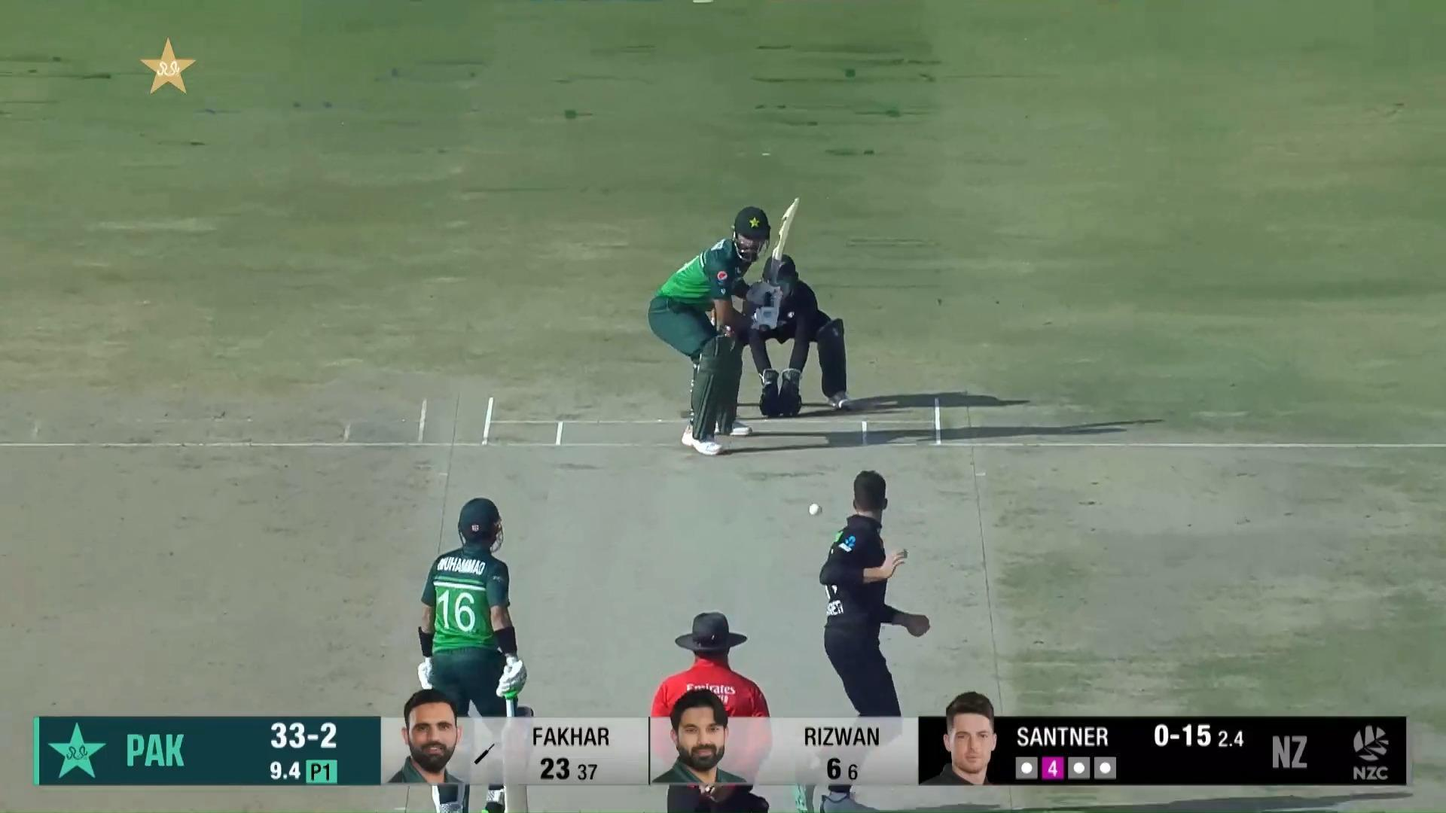BM 1: (648, 196, 802, 458)
BO: (796, 469, 932, 813)
